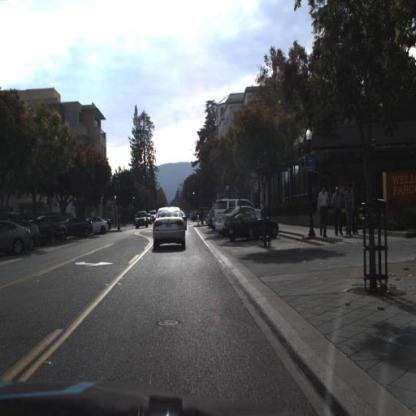car: (151, 205, 189, 254), (222, 212, 281, 243), (1, 216, 43, 259), (215, 202, 257, 237), (214, 199, 256, 233), (29, 213, 66, 245), (58, 217, 94, 240), (84, 215, 109, 237), (28, 219, 43, 253), (134, 208, 148, 236)
pedestrian: (330, 182, 347, 242), (317, 184, 331, 241), (345, 184, 358, 240), (331, 185, 344, 235), (344, 184, 354, 239), (351, 178, 361, 233)
trafficLight-Green: (193, 186, 197, 199)
